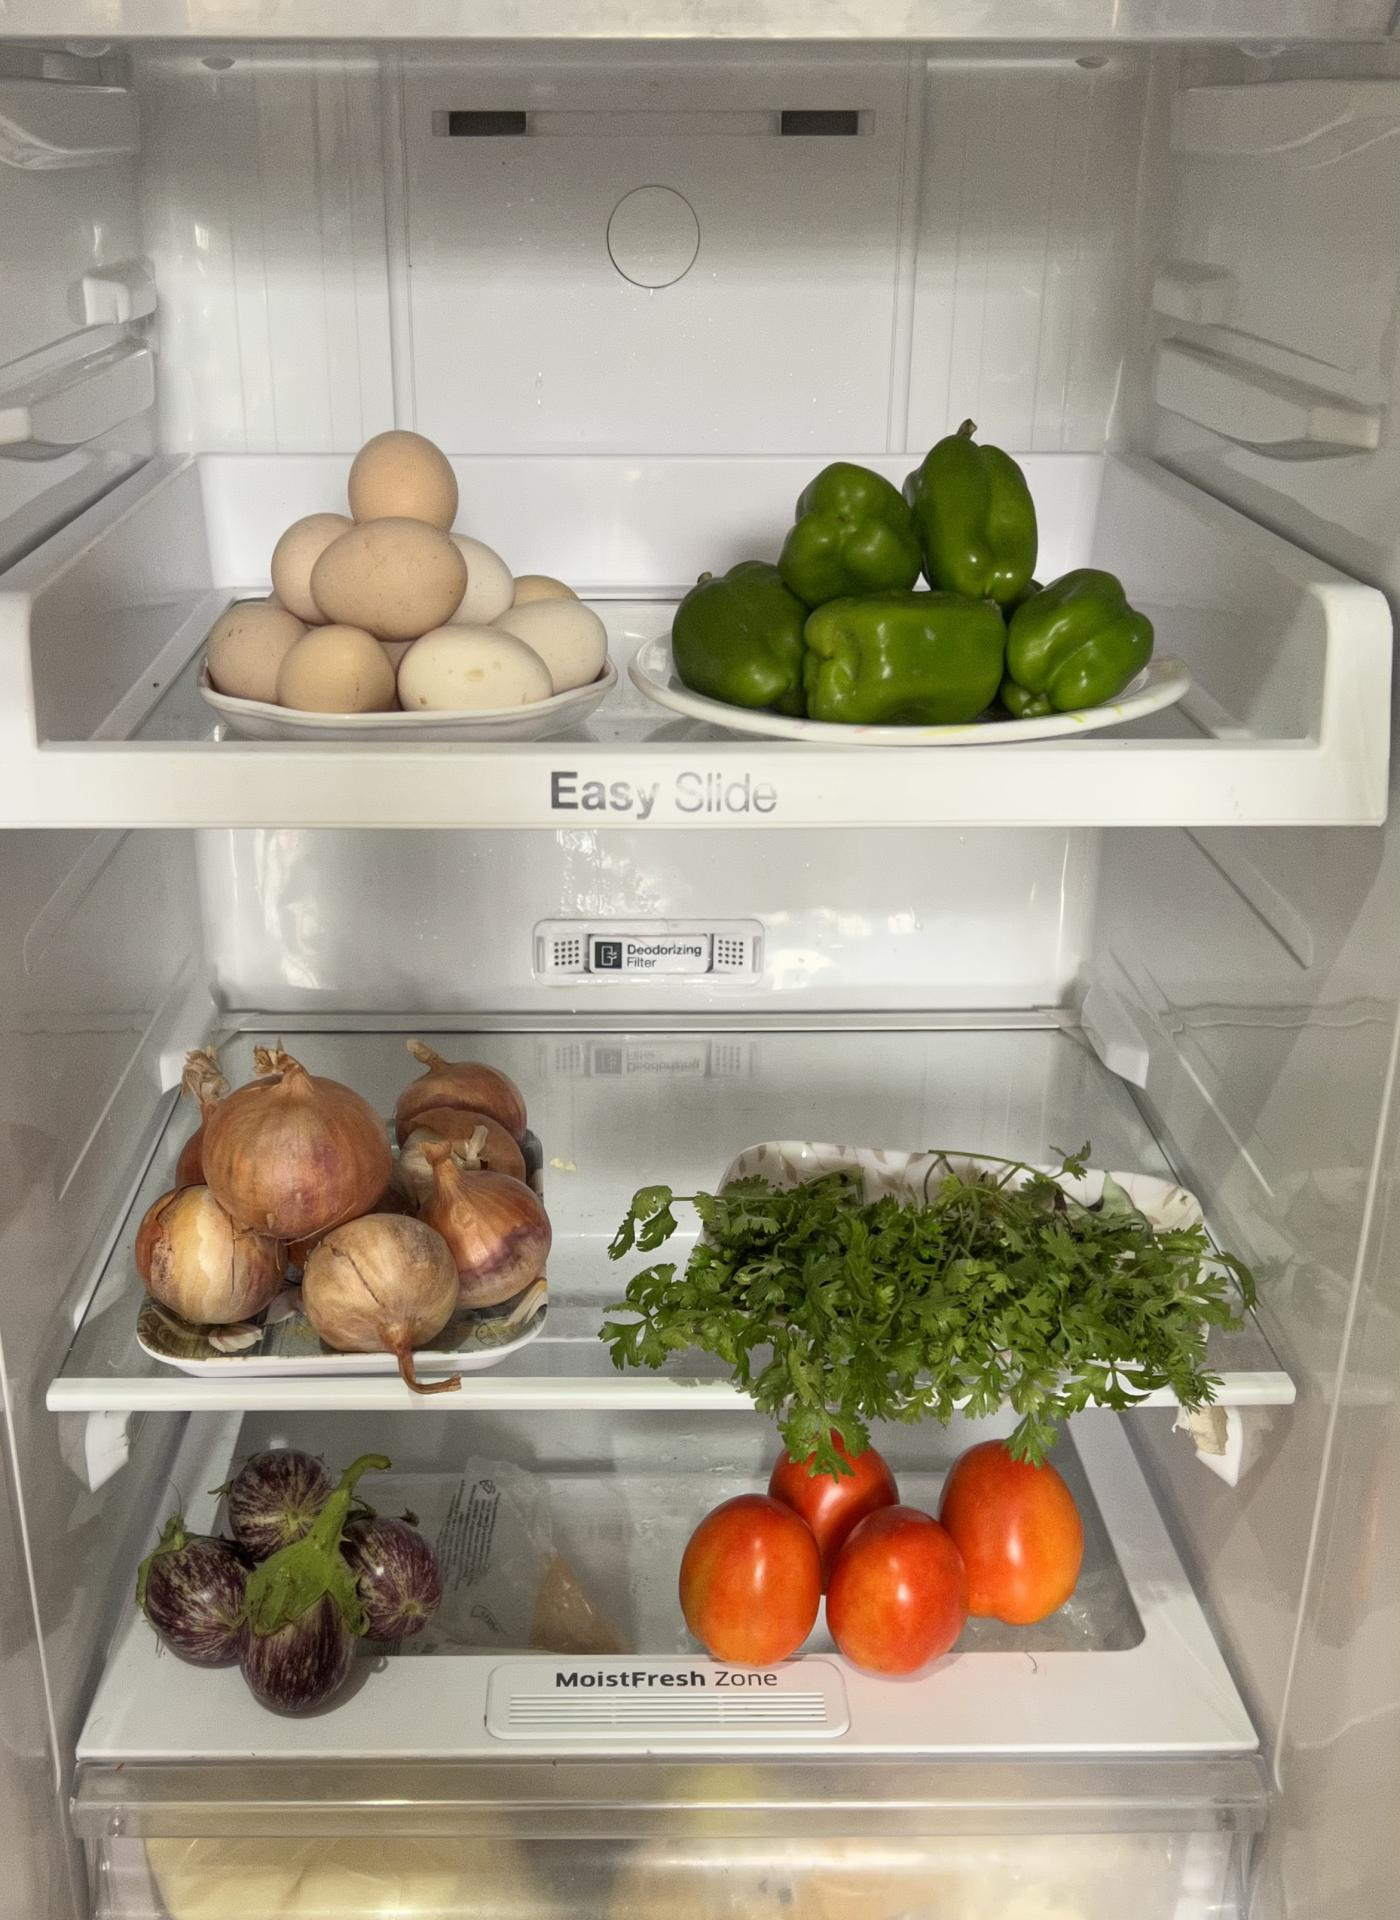capsicum: (660, 435, 1142, 719)
coriander: (614, 1166, 1245, 1407)
egg: (204, 428, 608, 726)
onion: (121, 1024, 550, 1352)
tomato: (675, 1434, 1084, 1674)
